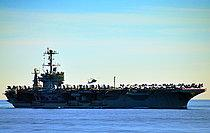MIL_Ship: (3, 46, 207, 112)
